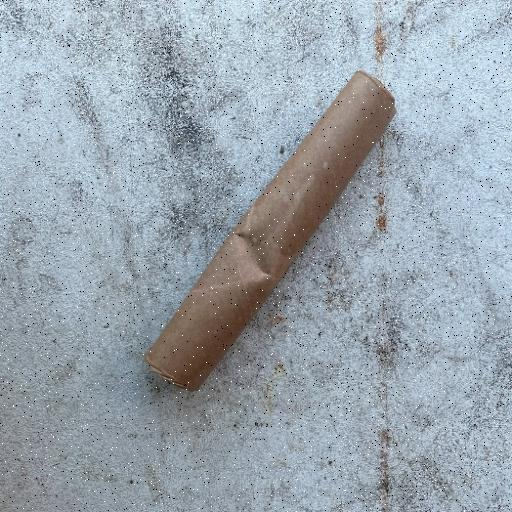Cardboard: (142, 67, 398, 393)
